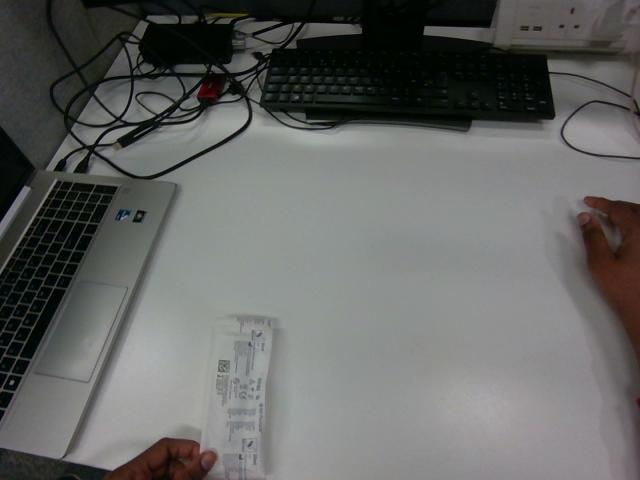syringe: (201, 316, 273, 479)
